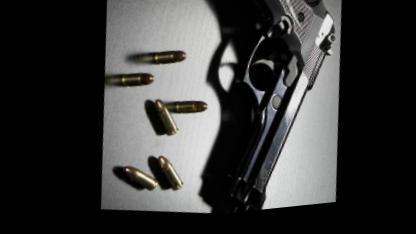pistol: (152, 0, 361, 221)
